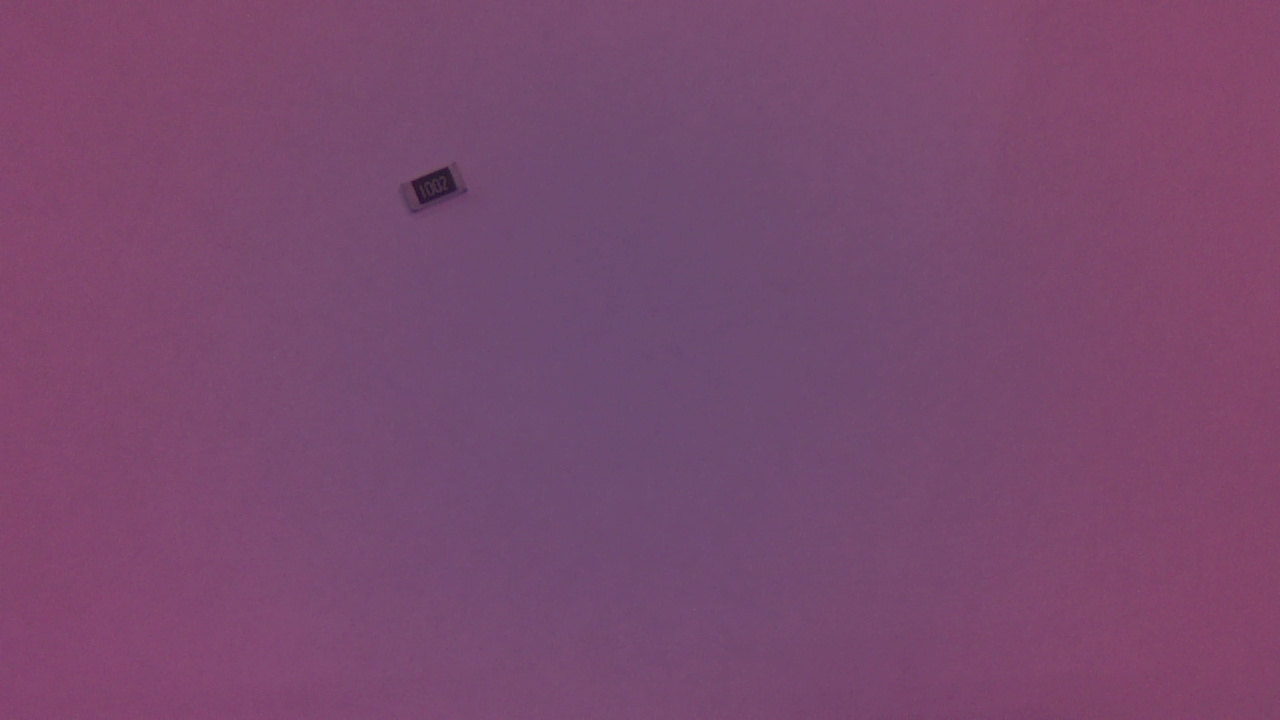Resistor: (398, 158, 479, 230)
